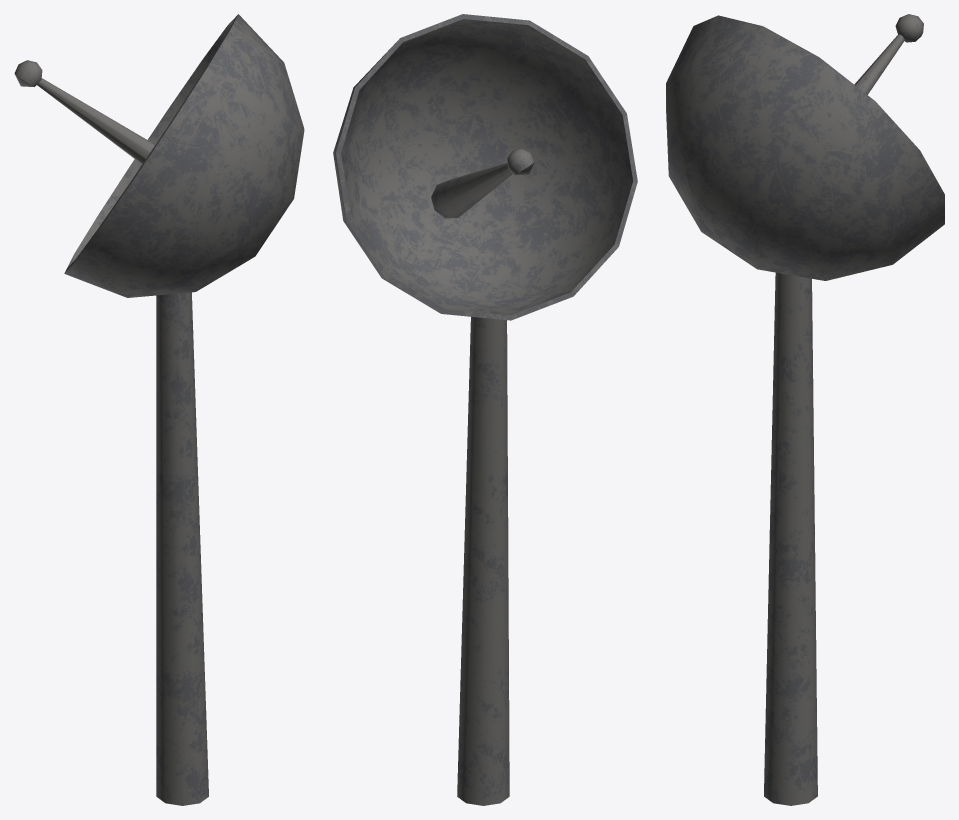
Rendered from Antenna.glb.
3 views of the same model, side by side, from view 1: azimuth 30°, elevation 25°; view 2: azimuth 150°, elevation 25°; view 3: azimuth 270°, elevation 25° (orthographic). The views are drawn at different scales.
Parts seen in each view (by area): view 1: Antenna; view 2: Antenna; view 3: Antenna.
Part boxes in pixels (x1,y1,x2,y2): Antenna: (14,14,304,805); Antenna: (333,14,637,805); Antenna: (666,14,944,805).
Bounding box in the file's own units: 1.9 × 5.8 × 1.87.
1 material, 1 textured.
